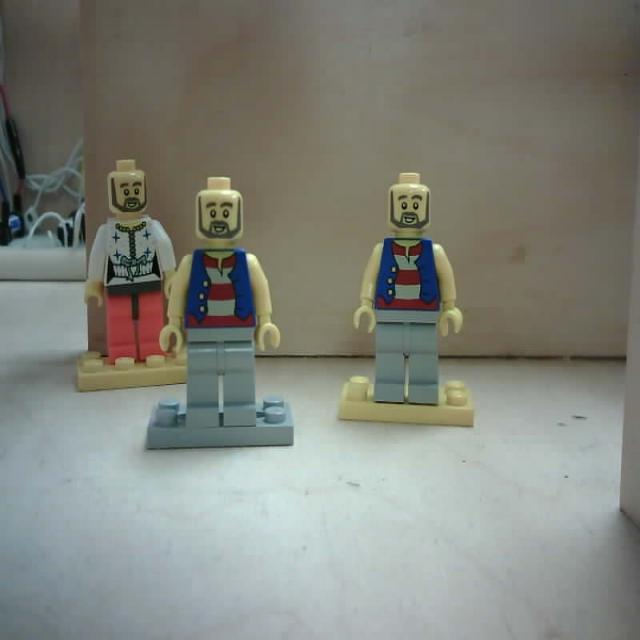Lego-People: (146, 173, 297, 454), (339, 171, 475, 433), (69, 157, 196, 396)
